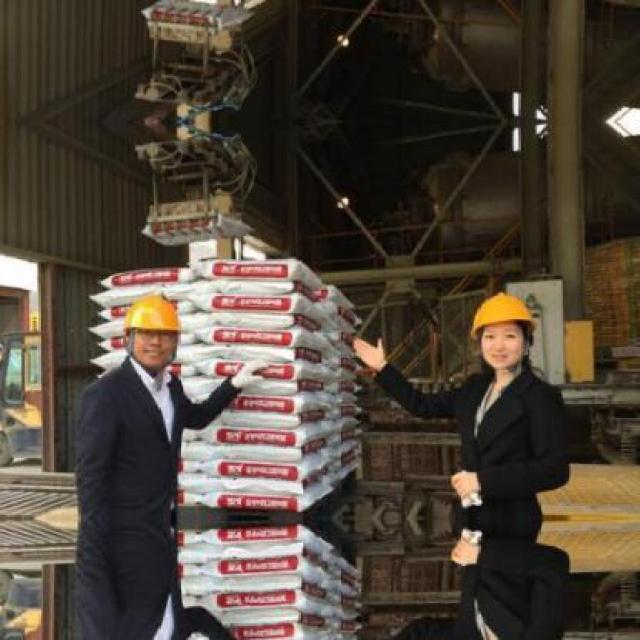helmet: (123, 286, 189, 346), (471, 288, 538, 342)
